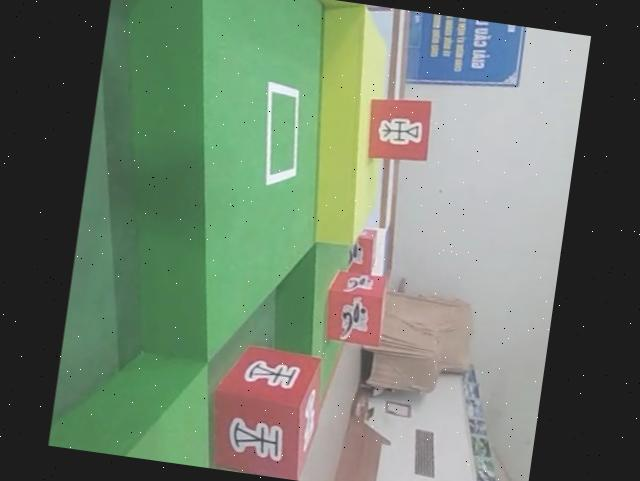R1: (321, 266, 392, 349)
R2 Real: (201, 336, 329, 481), (358, 91, 437, 169)
